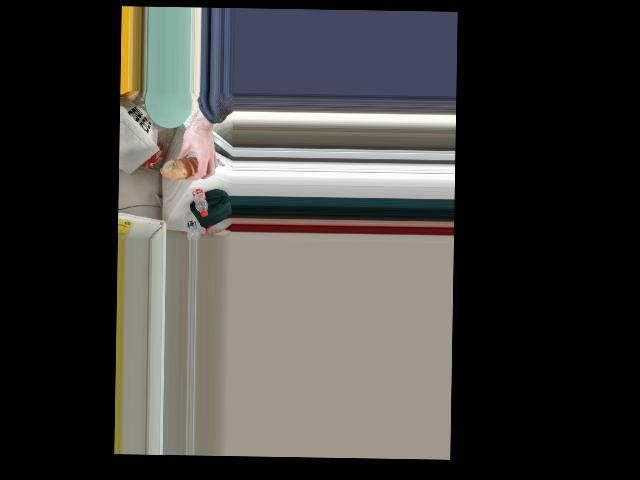sweet_potato: (171, 146, 207, 176)
